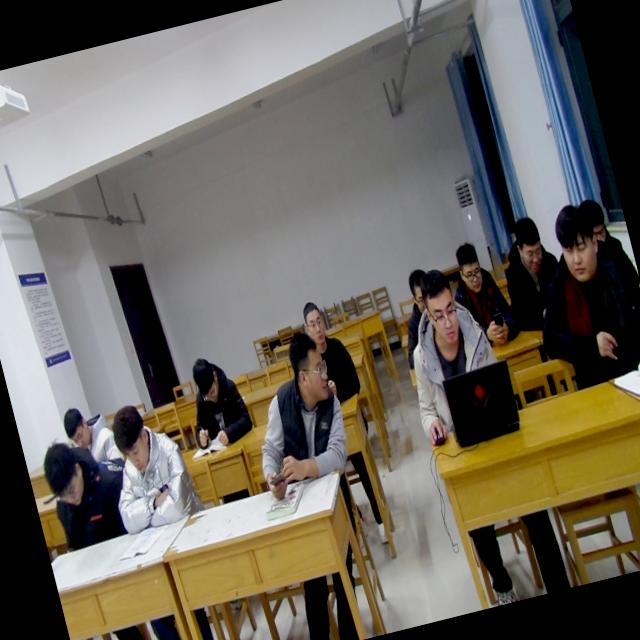down: (545, 197, 607, 292), (411, 264, 468, 354), (102, 398, 158, 482), (32, 435, 92, 513), (507, 214, 550, 276), (450, 239, 492, 300), (184, 349, 223, 406), (56, 401, 92, 449), (402, 267, 433, 312)
lookup: (294, 294, 334, 354), (577, 185, 613, 244)
sit: (385, 255, 530, 451), (510, 189, 640, 397), (230, 328, 360, 502), (93, 393, 204, 539), (36, 430, 132, 560), (490, 209, 576, 333), (440, 232, 522, 350), (297, 292, 366, 408), (176, 348, 256, 448), (573, 184, 640, 292), (60, 398, 132, 494), (385, 266, 446, 368)
